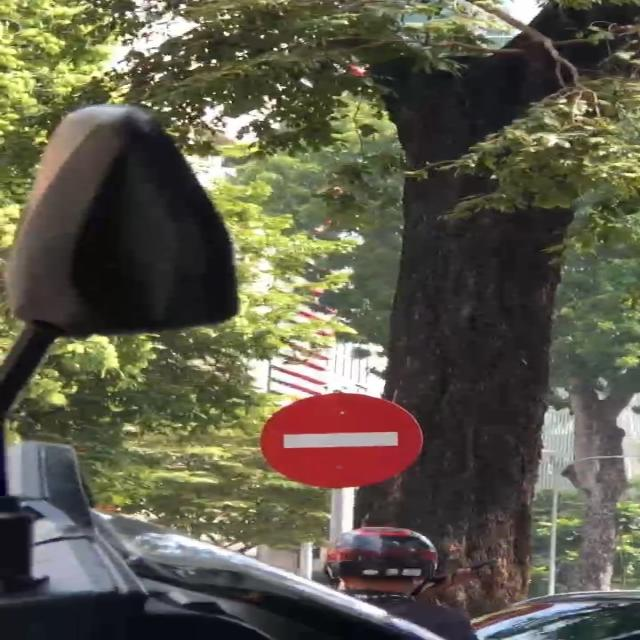Bien bao cam di nguoc chieu: (256, 384, 436, 501)
